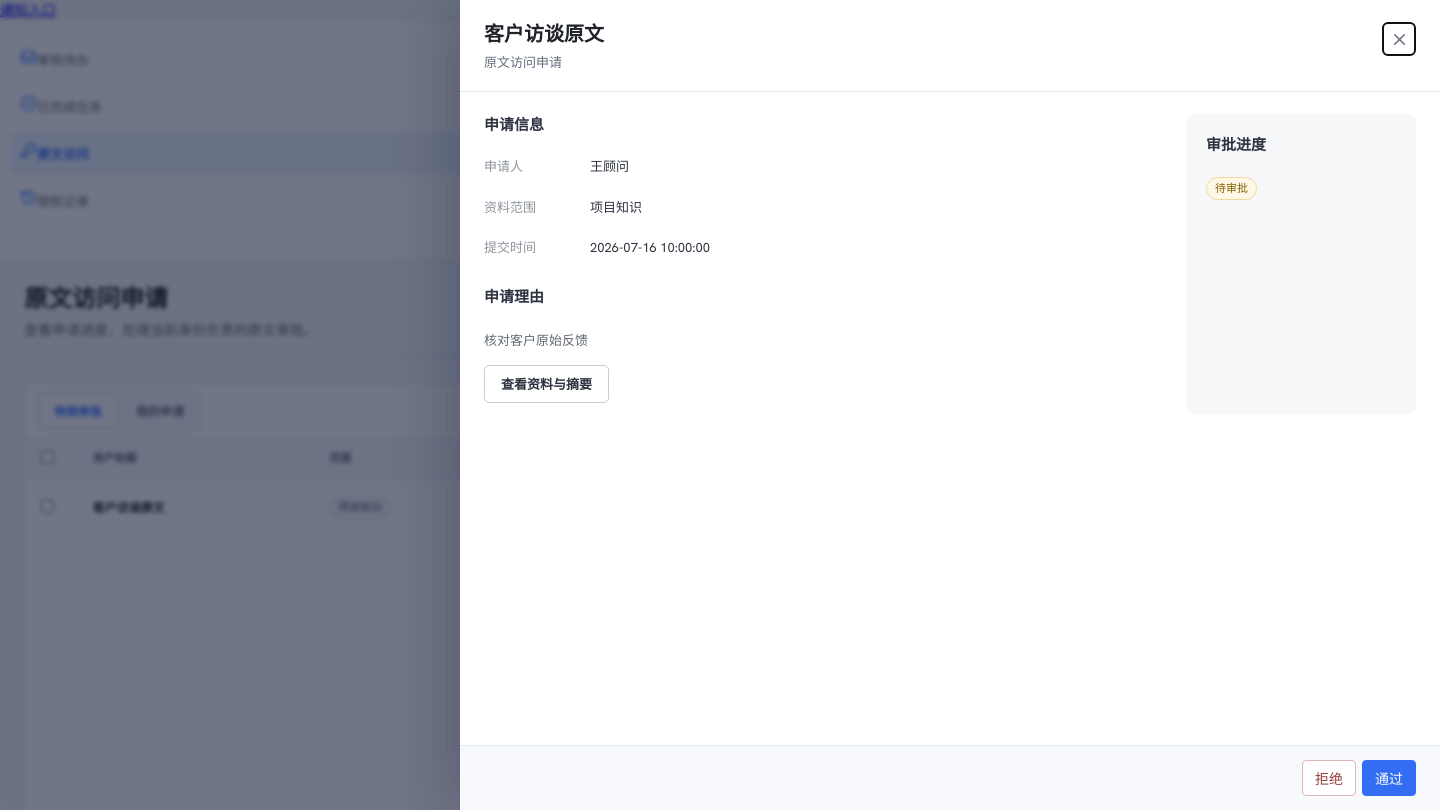
Scenario: OriginalAccessPage governance workspace › reopens a dismissed request when the same notification is followed again
Click the button named "关闭详情" at {"x": 1399, "y": 39}, box [1382,22,1416,56]
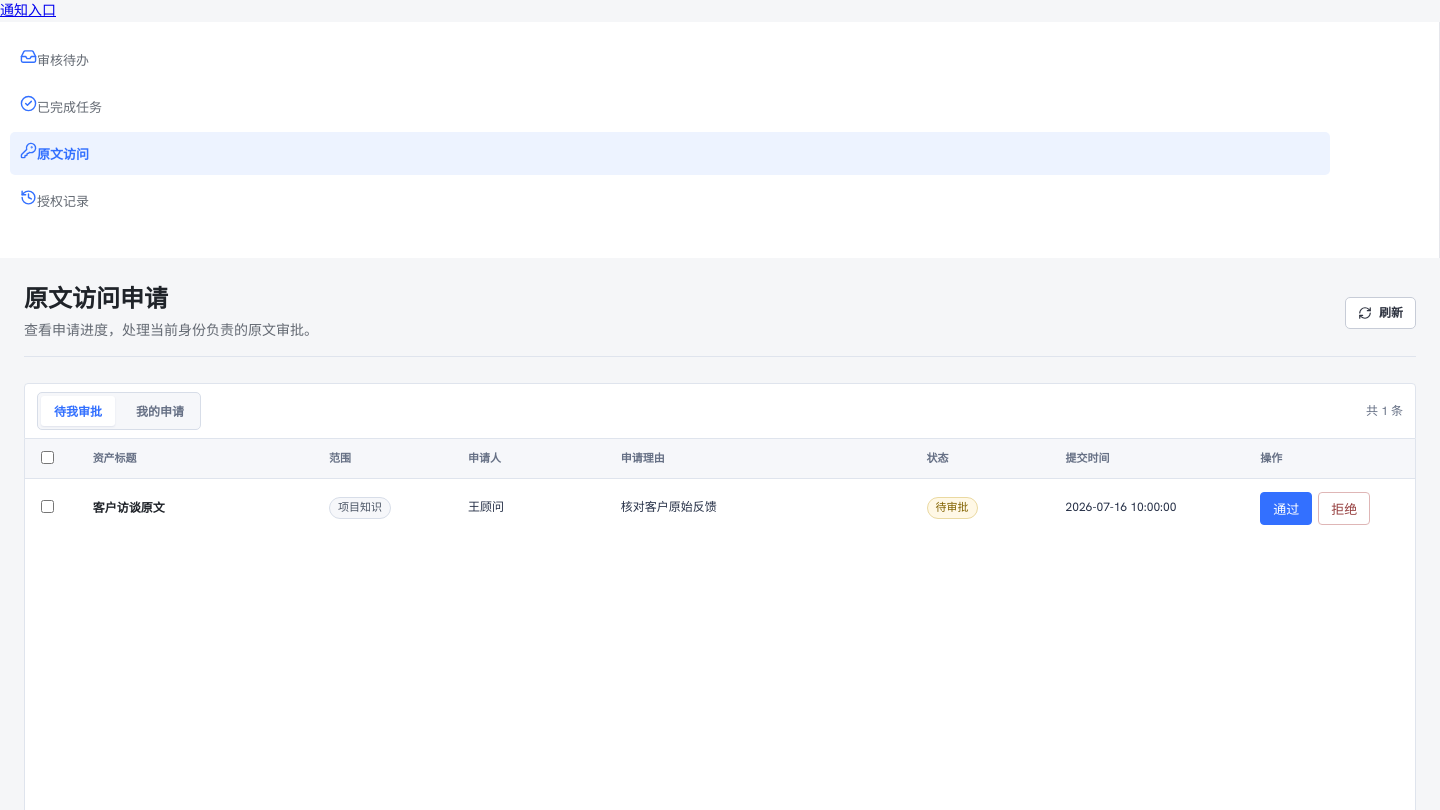
Check: the dialog is gone
Click the link "通知入口" at {"x": 28, "y": 10}, box [0,1,56,19]
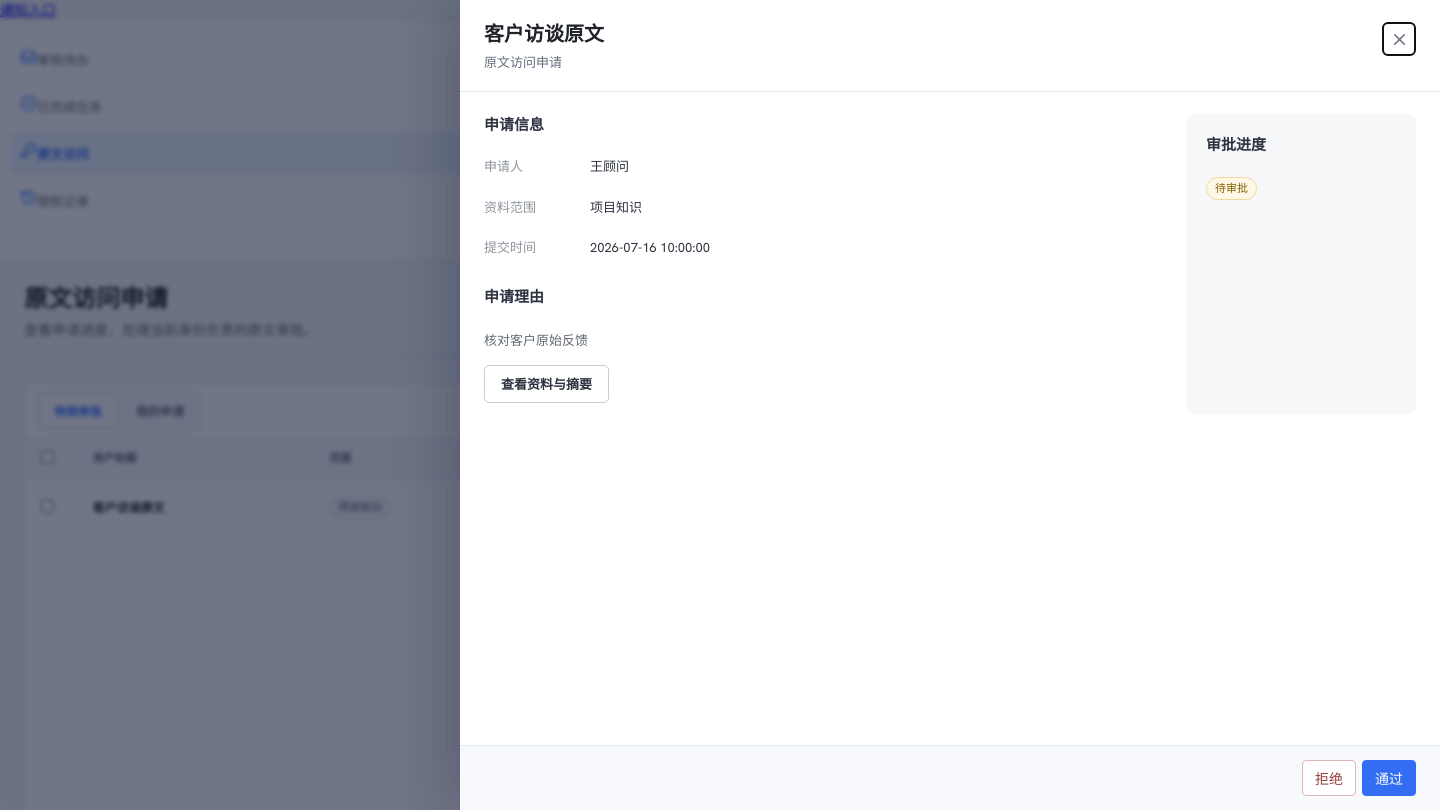
Check: the dialog "客户访谈原文" is shown
